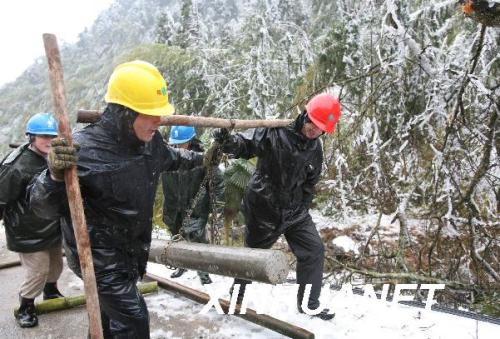boots: (11, 293, 38, 327), (306, 307, 335, 320), (43, 282, 65, 299), (197, 270, 213, 285), (170, 267, 187, 278)
gloves: (47, 136, 80, 181), (211, 127, 241, 154), (203, 140, 223, 167)
hard-hat: (104, 59, 175, 116), (305, 92, 341, 133), (25, 112, 59, 136), (167, 124, 197, 144)
person: (26, 59, 226, 339), (211, 92, 342, 320), (1, 112, 67, 328), (162, 125, 215, 285)
ppe-suit: (27, 102, 214, 338), (212, 104, 334, 313)
